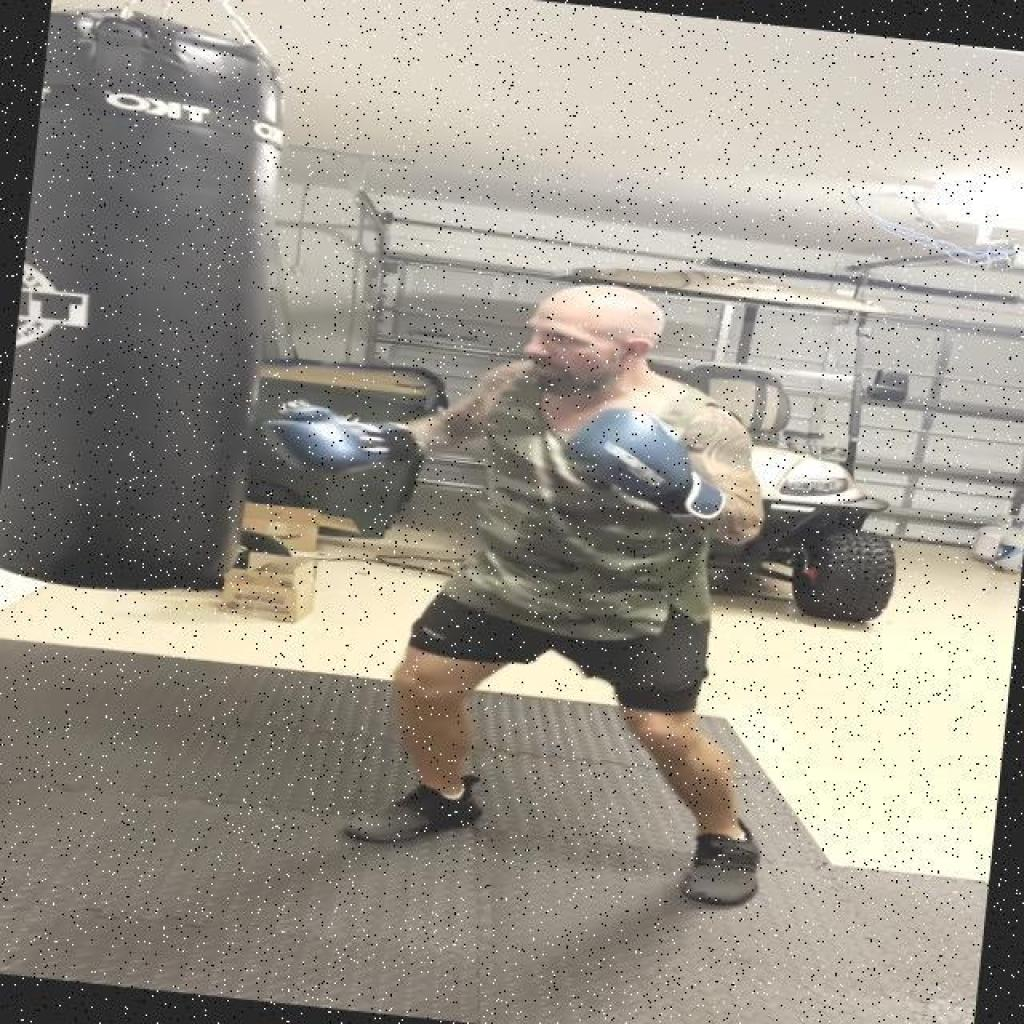bag: (0, 24, 301, 622)
hook: (230, 213, 796, 549)
